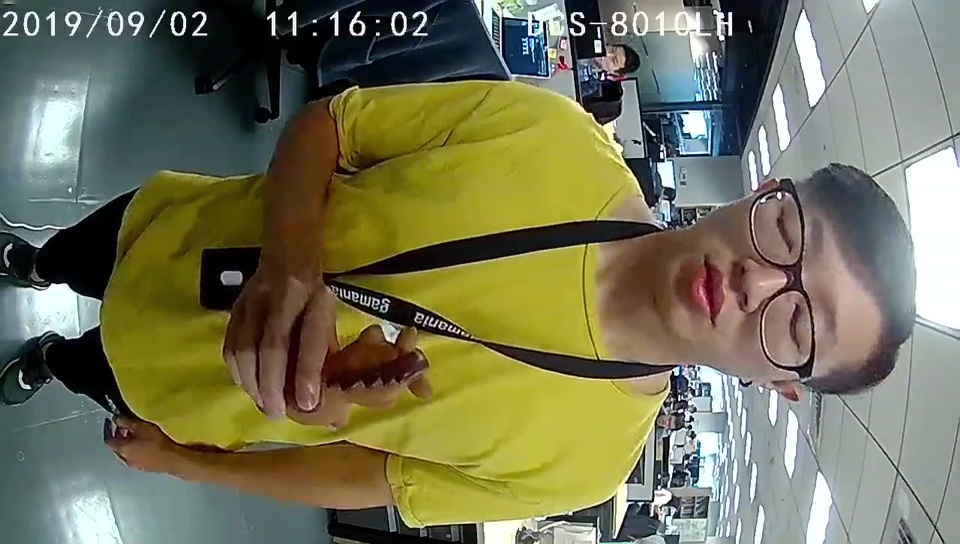horse: (322, 325, 430, 429)
